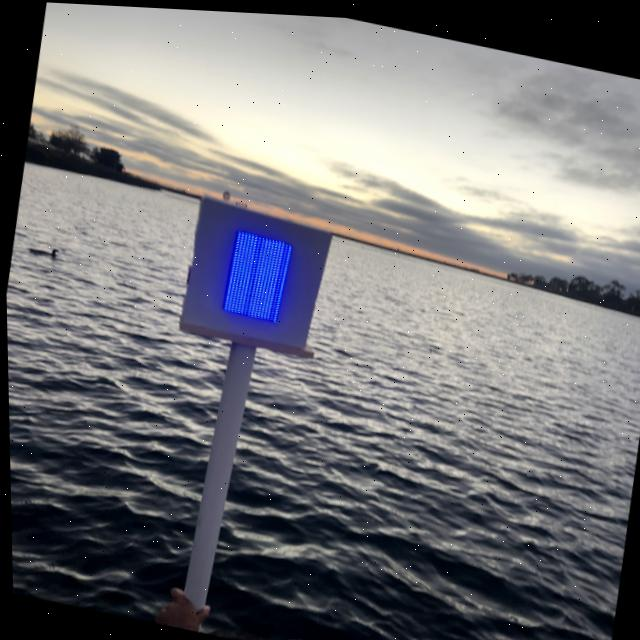led: (194, 202, 324, 345)
